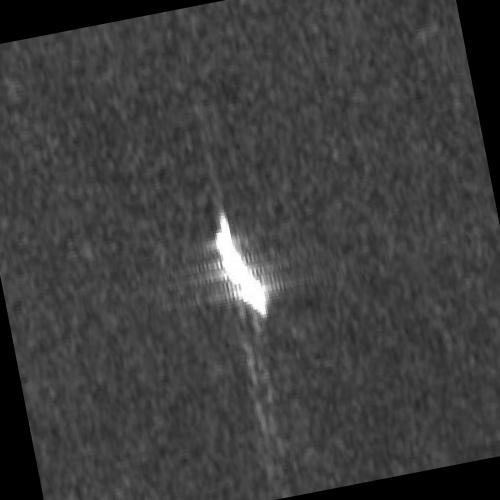ship: (215, 213, 268, 315)
